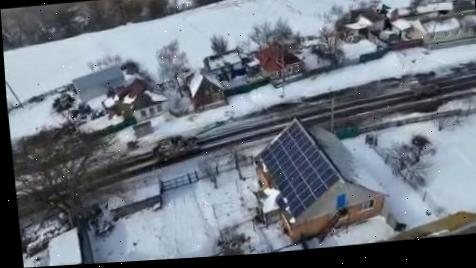tank: (149, 124, 221, 163)
